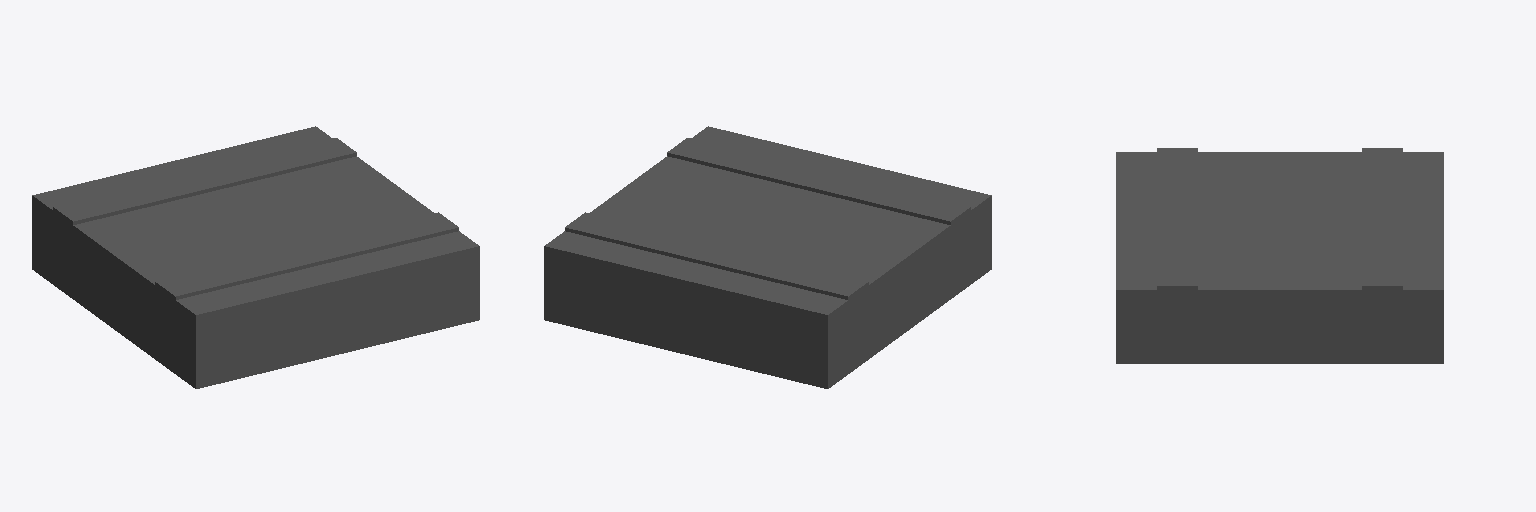
The model's file is path.obj.
The picture shows the model from 3 angles: view 1: azimuth 30°, elevation 25°; view 2: azimuth 150°, elevation 25°; view 3: azimuth 270°, elevation 25°; orthographic projection.
Parts seen in each view (by area): view 1: road-straight-low_Cube.131; view 2: road-straight-low_Cube.131; view 3: road-straight-low_Cube.131.
Part boxes in pixels (x1,y1,x2,y2): road-straight-low_Cube.131: (32, 126, 479, 388); road-straight-low_Cube.131: (544, 126, 991, 388); road-straight-low_Cube.131: (1116, 148, 1443, 363).
Size of the model in its own units: 8 by 2.1 by 8.